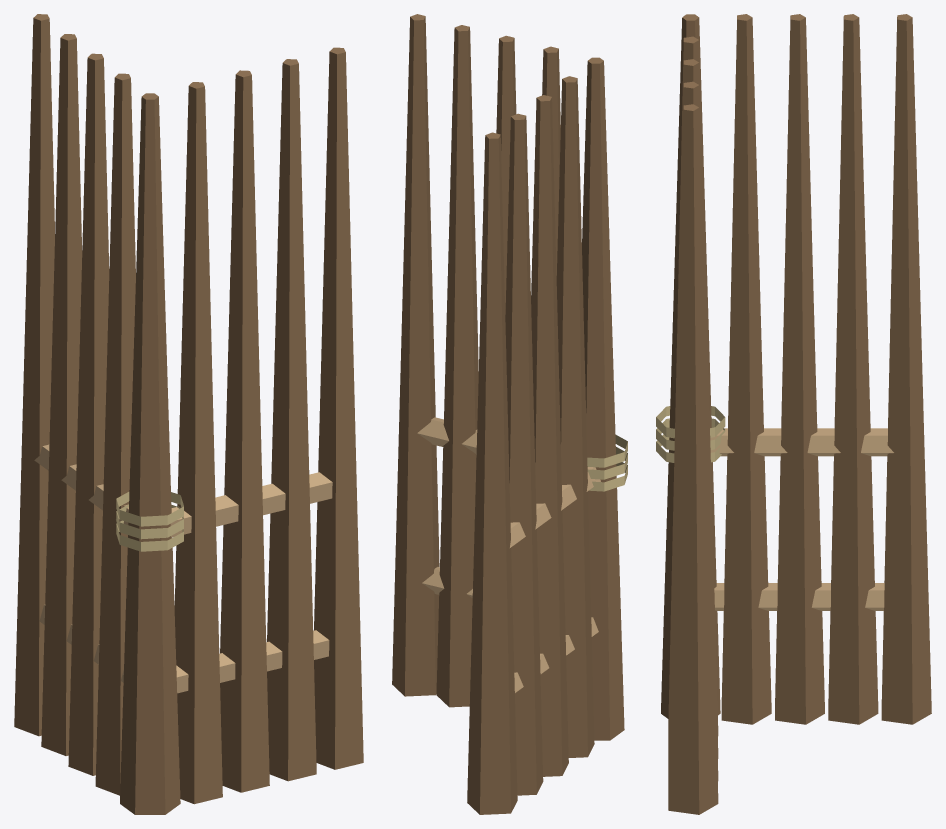
Rendered from palisade_03.glb.
The picture shows the model from 3 angles, left to right: view 1: azimuth 30°, elevation 25°; view 2: azimuth 150°, elevation 25°; view 3: azimuth 270°, elevation 25°; orthographic projection. The views are drawn at different scales.
Parts seen in each view (by area): view 1: palisade_03; view 2: palisade_03; view 3: palisade_03.
Part boxes in pixels (bbox=[...]): palisade_03: bbox=[14, 14, 363, 814]; palisade_03: bbox=[392, 14, 627, 814]; palisade_03: bbox=[656, 14, 931, 814].
Size of the model in its own units: 0.6428 by 1.8 by 0.646.
